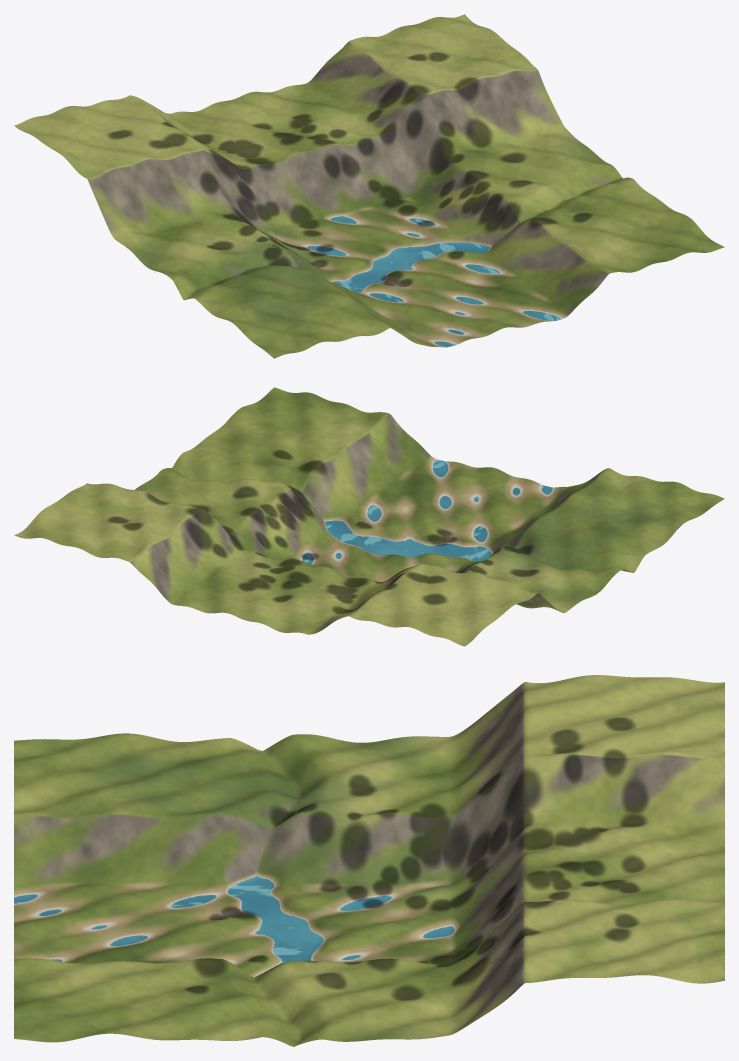
The model's file is SM_ArenaScenery.glb.
3 views of the same model, one above another, from view 1: azimuth 30°, elevation 25°; view 2: azimuth 150°, elevation 25°; view 3: azimuth 270°, elevation 25° (orthographic). The views are drawn at different scales.
Parts seen in each view (by area): view 1: ArenaScenery; view 2: ArenaScenery; view 3: ArenaScenery.
Boxes of the visible parts, x1,y1,x2,y2 form: ArenaScenery: (14,14,724,358); ArenaScenery: (14,387,724,646); ArenaScenery: (14,675,724,1046).
Size of the model in its own units: 70 by 11.9 by 70.
Materials: 1 (1 with a texture image).
